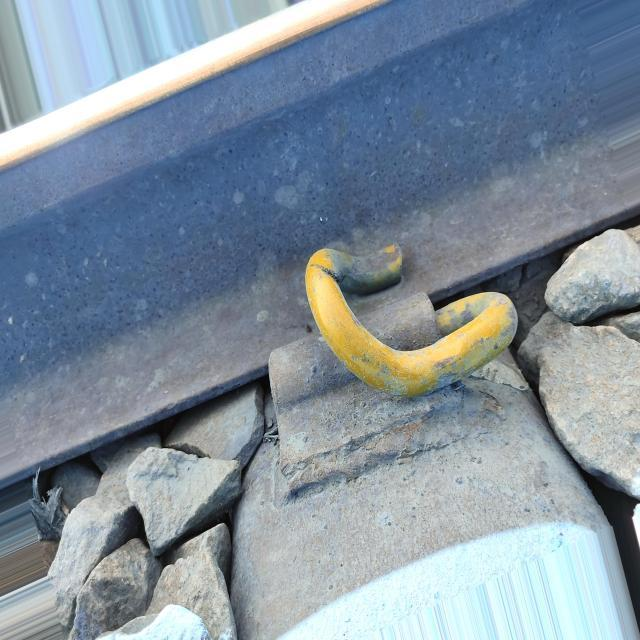Good Fasteners: (270, 249, 516, 499)
